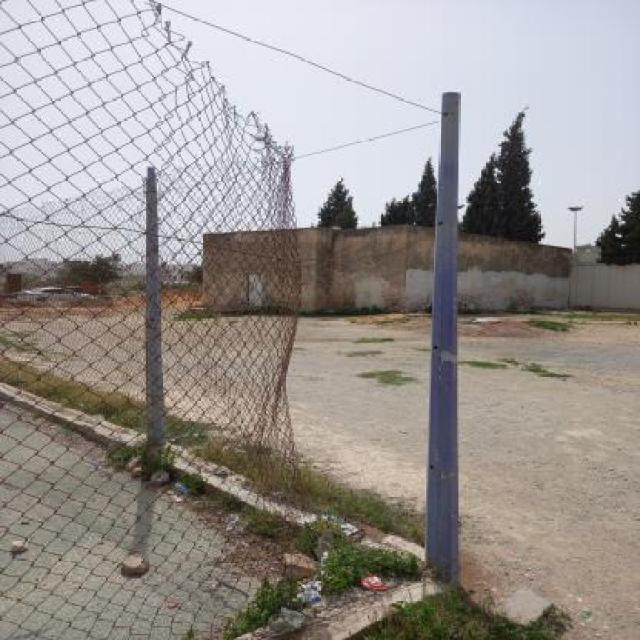fence line: (275, 88, 453, 580)
